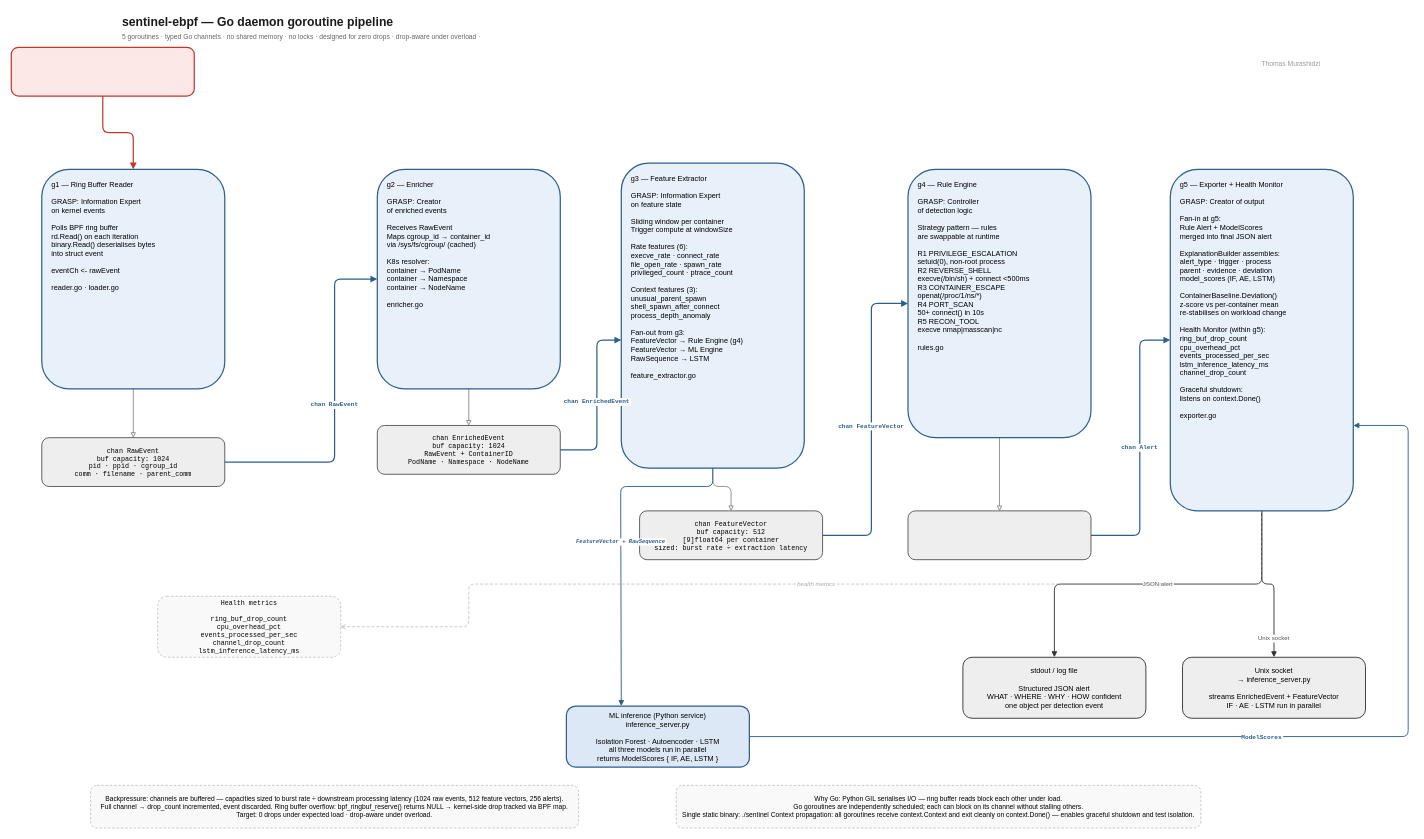
The diagram is 1424 pixels wide and 839 high, and some of its shapes have lost their labels. The shapes that lost their labels are listed below. From the top down, each one's centre as x and y in pixels, then its label:
At point 102,71: "BPF ring buffer kernel ↔ userspace shared memory zero-copy · in-order events".
At point 999,535: "chan Alert buf capacity: 256 Type · Severity FeatureVector · Events[]".
